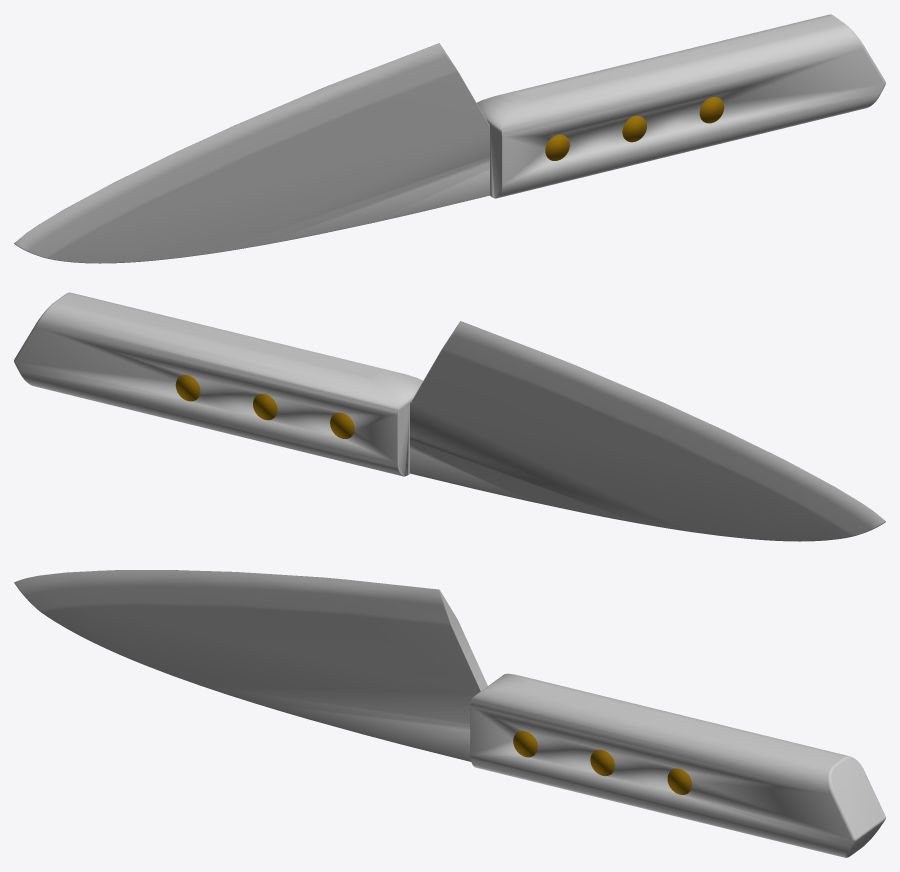
File: knife.obj
3 renders of one model, top to bottom at view 1: azimuth 30°, elevation 25°; view 2: azimuth 150°, elevation 25°; view 3: azimuth 330°, elevation 25°, orthographic.
Parts seen in each view (by area): view 1: Object002, Object, Object004, Object006, Object008; view 2: Object002, Object, Object004, Object006, Object008; view 3: Object002, Object.
Boxes of the visible parts, x1=… form: Object002: x1=14, y1=43, x2=489, y2=263; Object: x1=477, y1=14, x2=885, y2=198; Object004: x1=699, y1=97, x2=724, y2=123; Object006: x1=622, y1=115, x2=646, y2=142; Object008: x1=545, y1=134, x2=569, y2=160; Object002: x1=410, y1=321, x2=885, y2=541; Object: x1=14, y1=292, x2=422, y2=476; Object004: x1=175, y1=375, x2=200, y2=401; Object006: x1=253, y1=393, x2=277, y2=420; Object008: x1=330, y1=412, x2=354, y2=438; Object002: x1=14, y1=570, x2=487, y2=761; Object: x1=470, y1=673, x2=885, y2=857.
Size of the model in its own units: 10.94 by 1.97 by 0.7086.
